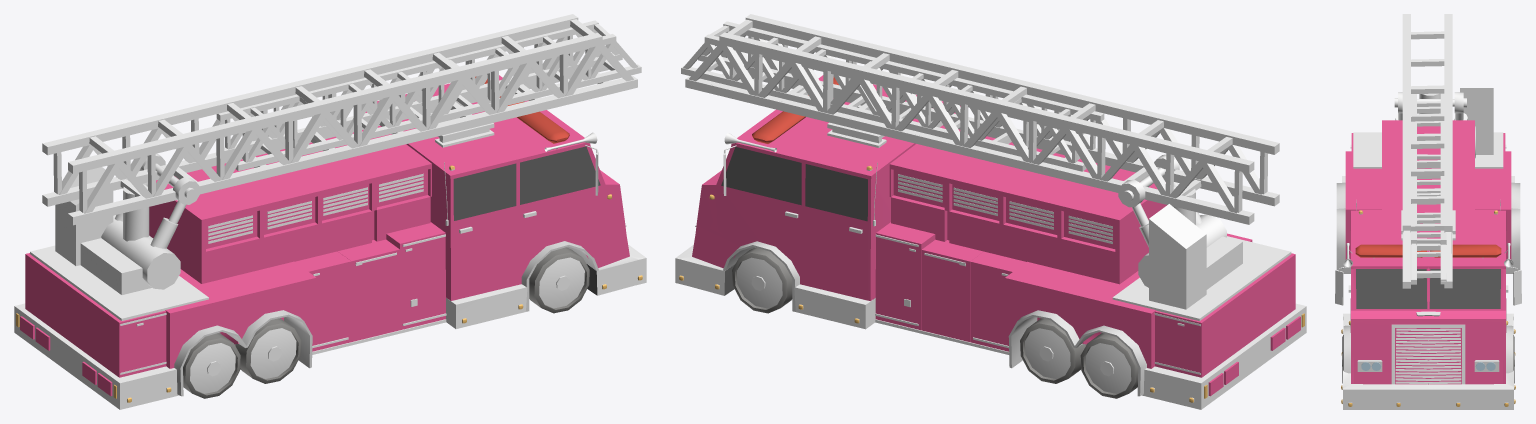
File: car_alt.fbx
3 views of the same model, side by side, from view 1: azimuth 30°, elevation 25°; view 2: azimuth 150°, elevation 25°; view 3: azimuth 270°, elevation 25° (orthographic). The views are drawn at different scales.
Parts seen in each view (by area): view 1: Mesh_170, Mesh_152, Mesh_174, Mesh_171, Mesh_34, Mesh_35, Mesh_8, Mesh_153, Mesh_172, Mesh_175, Mesh_156, Mesh_144 (+28 smaller); view 2: Mesh_170, Mesh_152, Mesh_174, Mesh_171, Mesh_8, Mesh_34, Mesh_9, Mesh_153, Mesh_142, Mesh_172, Mesh_175, Mesh_156 (+28 smaller); view 3: Mesh_152, Mesh_153, Mesh_151, Mesh_170, Mesh_171, Mesh_8, Mesh_34, Mesh_144, Mesh_142, Mesh_154, Mesh_262, Mesh_264 (+29 smaller).
Boxes of the visible parts, left/top/right/bottom form: Mesh_170: left=149, top=126, right=431, bottom=283; Mesh_152: left=365, top=75, right=629, bottom=300; Mesh_174: left=25, top=253, right=166, bottom=377; Mesh_171: left=165, top=261, right=316, bottom=368; Mesh_34: left=68, top=33, right=602, bottom=173; Mesh_35: left=68, top=75, right=637, bottom=225; Mesh_8: left=42, top=14, right=578, bottom=155; Mesh_153: left=453, top=146, right=600, bottom=295; Mesh_172: left=338, top=239, right=399, bottom=341; Mesh_175: left=386, top=222, right=447, bottom=330; Mesh_156: left=14, top=303, right=178, bottom=409; Mesh_144: left=30, top=245, right=208, bottom=320; Mesh_170: left=889, top=125, right=1166, bottom=284; Mesh_152: left=692, top=75, right=960, bottom=300; Mesh_174: left=1155, top=253, right=1295, bottom=377; Mesh_171: left=1005, top=233, right=1252, bottom=368; Mesh_8: left=719, top=32, right=1254, bottom=173; Mesh_34: left=745, top=14, right=1279, bottom=154; Mesh_9: left=685, top=76, right=1254, bottom=224; Mesh_153: left=721, top=146, right=867, bottom=295; Mesh_142: left=1149, top=204, right=1206, bottom=309; Mesh_172: left=921, top=239, right=983, bottom=341; Mesh_175: left=873, top=222, right=935, bottom=330; Mesh_156: left=1142, top=303, right=1306, bottom=409; Mesh_152: left=1350, top=210, right=1506, bottom=384; Mesh_153: left=1356, top=269, right=1500, bottom=308; Mesh_151: left=1343, top=311, right=1513, bottom=409; Mesh_170: left=1382, top=120, right=1474, bottom=210; Mesh_171: left=1345, top=151, right=1511, bottom=259; Mesh_8: left=1444, top=14, right=1452, bottom=232; Mesh_34: left=1402, top=14, right=1410, bottom=232; Mesh_144: left=1353, top=132, right=1503, bottom=168; Mesh_142: left=1460, top=88, right=1493, bottom=154; Mesh_154: left=1355, top=244, right=1501, bottom=257; Mesh_262: left=1336, top=208, right=1520, bottom=273; Mesh_264: left=1343, top=325, right=1513, bottom=373.
Size of the model in its own units: 229 by 87.89 by 78.89.
